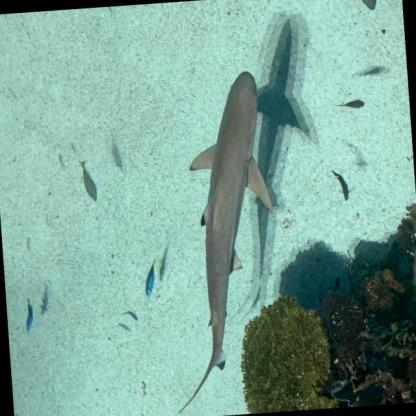fish: (71, 154, 103, 209), (138, 254, 162, 308), (328, 167, 356, 207), (18, 296, 39, 338), (330, 96, 367, 116), (353, 62, 387, 82), (352, 0, 388, 14), (118, 309, 139, 323)
shark: (182, 69, 284, 372)
